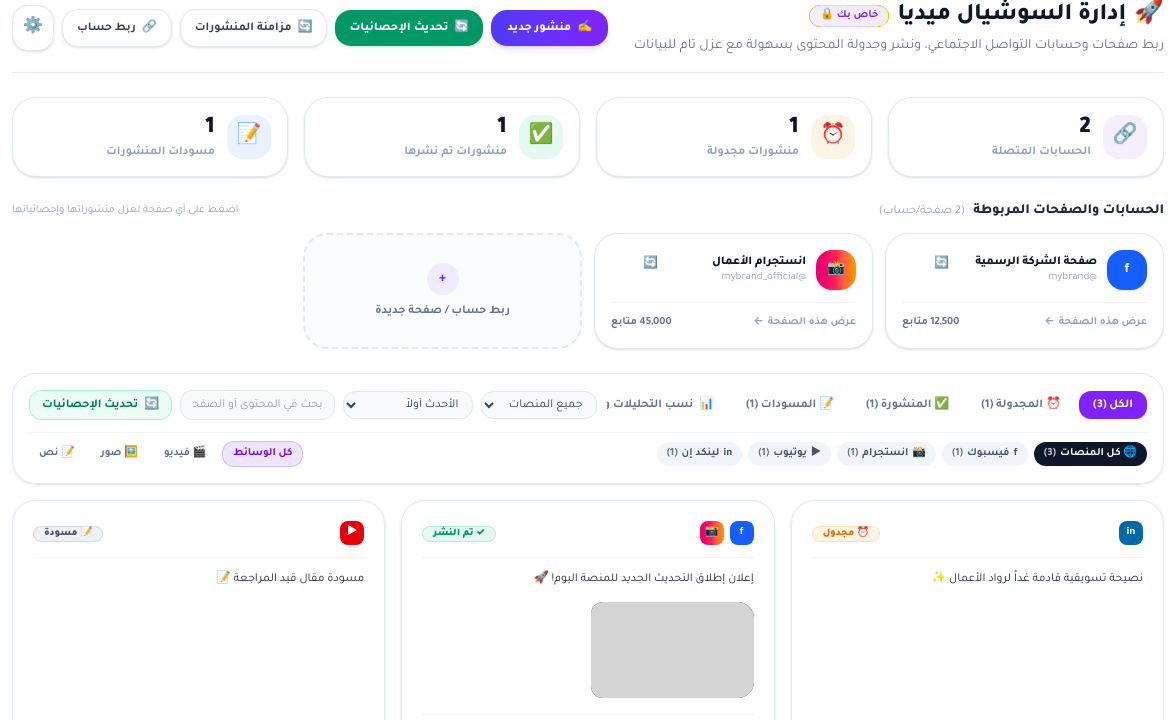
Scenario: SocialMediaBoard.vue and Social Media Management Features › filters posts by search query
In the field with placeholder "بحث في المحتوى أو الصفحة...": (258, 404) [180, 390, 335, 420], type "تسويقية"
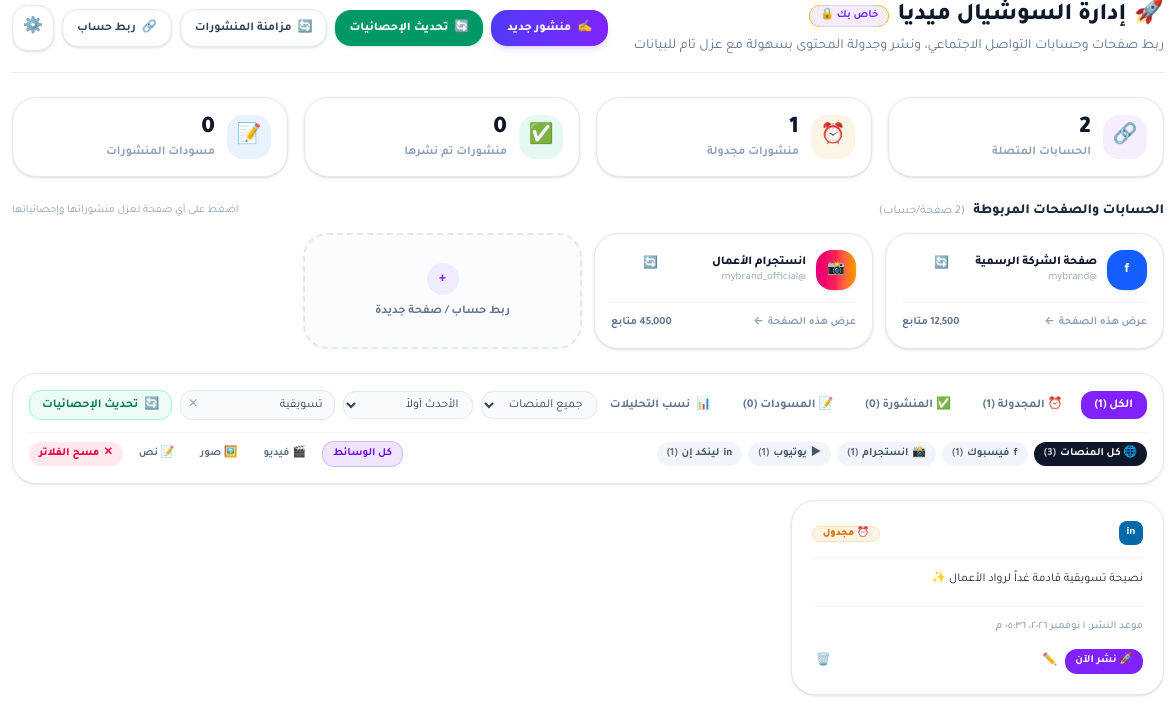
Expected: the text "نصيحة تسويقية" is shown, [931, 573, 1143, 585]
Result: the text "إعلان إطلاق التحديث" is gone
